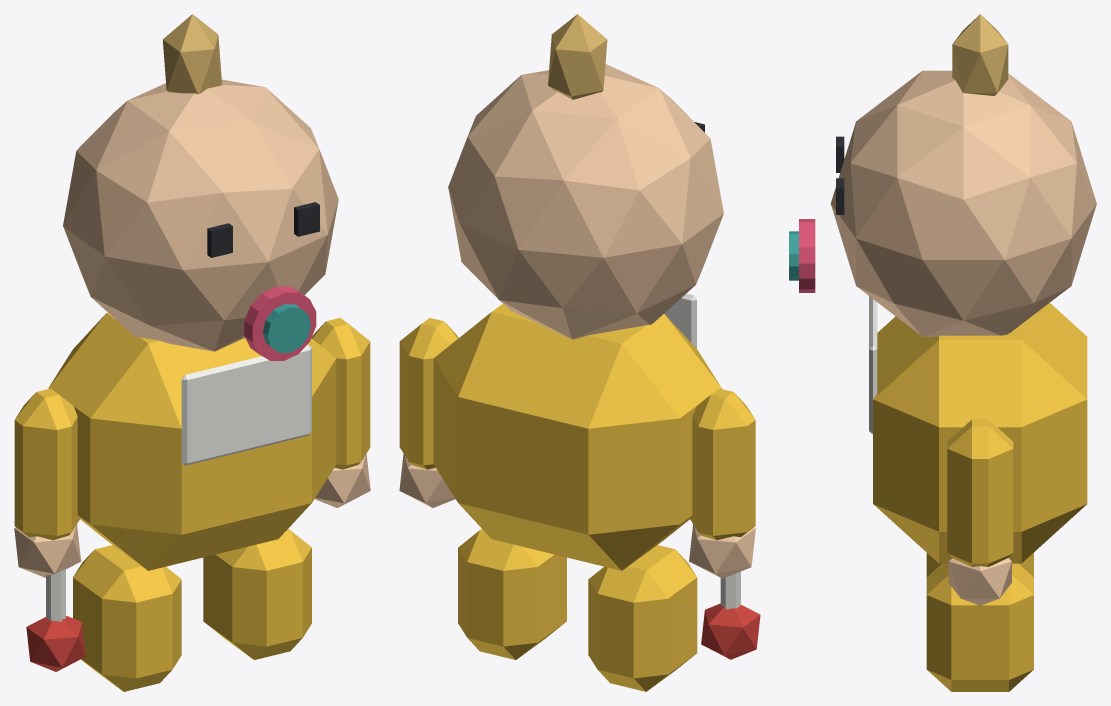
The model's file is baby.glb.
3 renders of one model, left to right at view 1: azimuth 30°, elevation 25°; view 2: azimuth 150°, elevation 25°; view 3: azimuth 270°, elevation 25°, orthographic.
Visible parts, largest first — view 1: Body, ArmR, LegR, LegL, ArmL; view 2: Body, ArmR, LegR, LegL, ArmL; view 3: Body, ArmL, LegL.
Boxes of the visible parts, x1=… form: Body: x1=48, y1=14, x2=338, y2=570; ArmR: x1=14, y1=388, x2=85, y2=671; LegR: x1=73, y1=545, x2=181, y2=691; LegL: x1=203, y1=528, x2=311, y2=659; ArmL: x1=311, y1=318, x2=370, y2=507; Body: x1=433, y1=14, x2=723, y2=570; ArmR: x1=689, y1=388, x2=760, y2=659; LegR: x1=588, y1=545, x2=697, y2=691; LegL: x1=458, y1=529, x2=566, y2=659; ArmL: x1=399, y1=318, x2=458, y2=507; Body: x1=789, y1=14, x2=1096, y2=563; ArmL: x1=947, y1=419, x2=1013, y2=605; LegL: x1=926, y1=563, x2=1033, y2=691.
Bounding box in the file's own units: 0.4805 × 0.854 × 0.3735.
